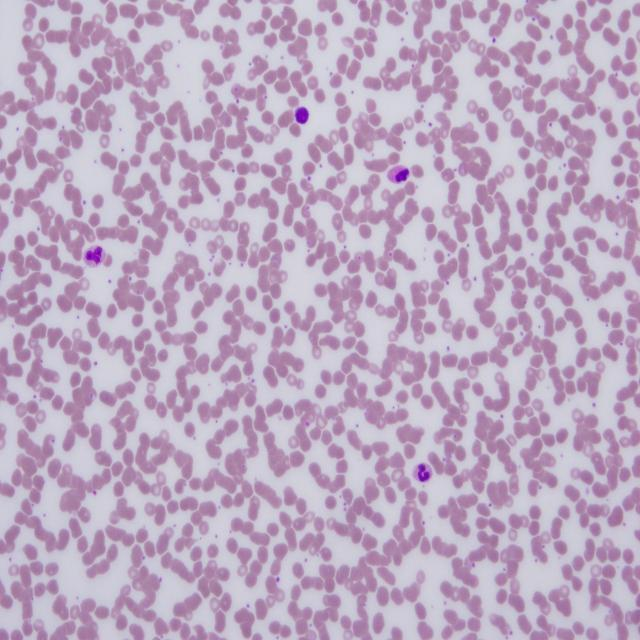cell: (412, 462, 432, 483)
